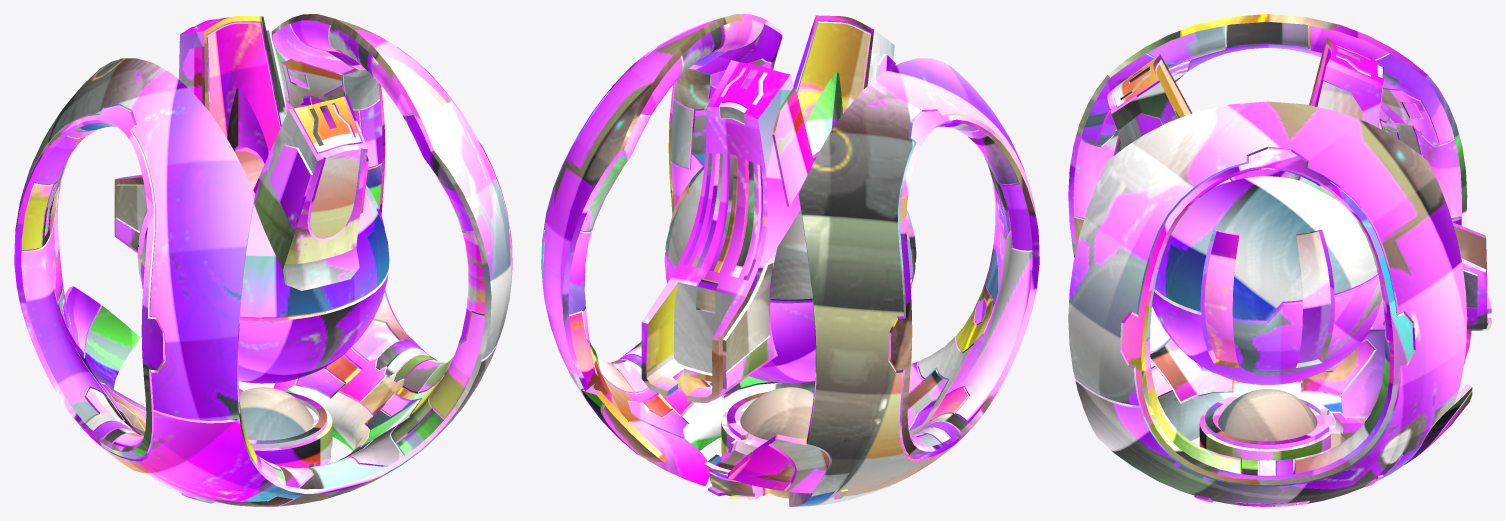
File: Spark.gltf
3 renders of one model, left to right at view 1: azimuth 30°, elevation 25°; view 2: azimuth 150°, elevation 25°; view 3: azimuth 270°, elevation 25°, orthographic.
Parts seen in each view (by area): view 1: Object_2; view 2: Object_2; view 3: Object_2.
Part boxes in pixels (bbox=[...]): Object_2: bbox=[14, 14, 512, 506]; Object_2: bbox=[541, 14, 1039, 506]; Object_2: bbox=[1068, 14, 1491, 506].
Bounding box in the file's own units: 1.71 × 1.99 × 1.71.
